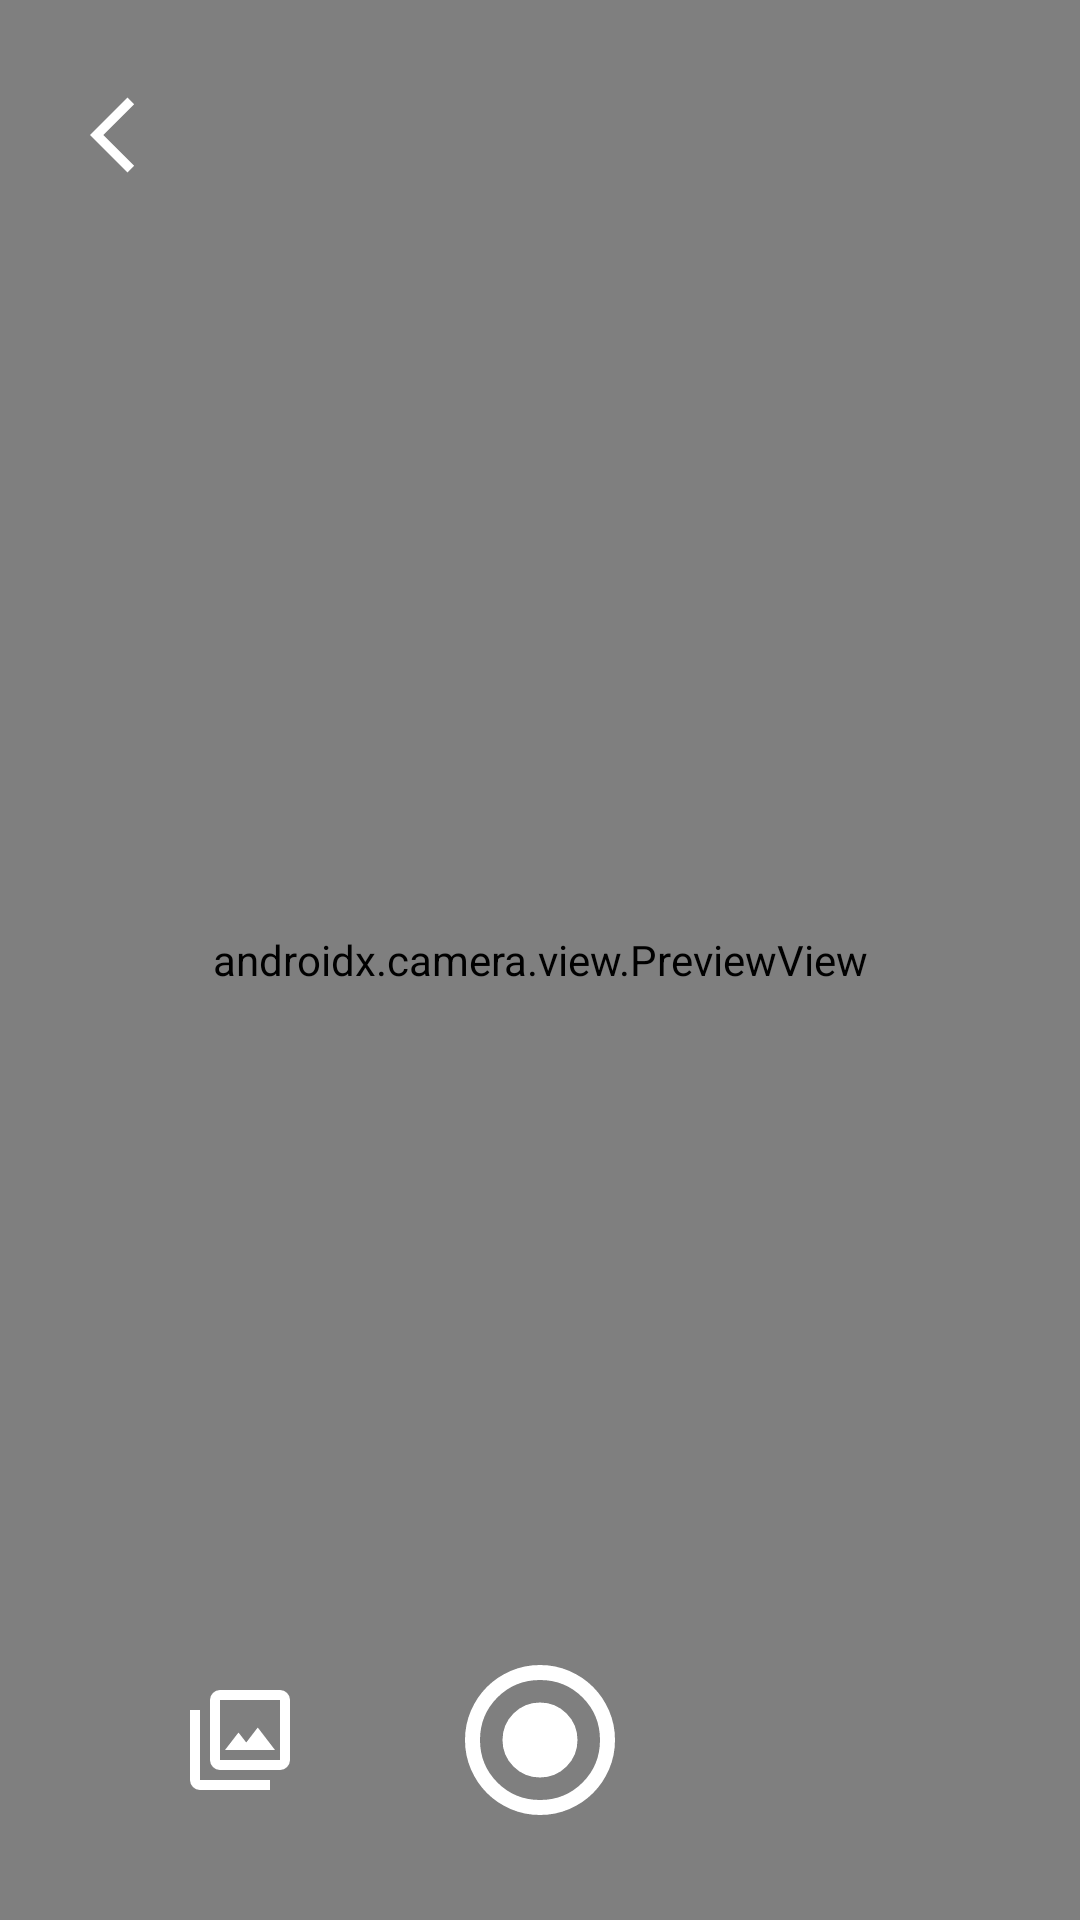

Where icons sit on this 1080 × 1920 app screen, as (x1, y1, x2, y2):
arrow back: (90, 97, 134, 173)
photo capture: (465, 1665, 615, 1815)
photo library: (190, 1690, 290, 1790)
